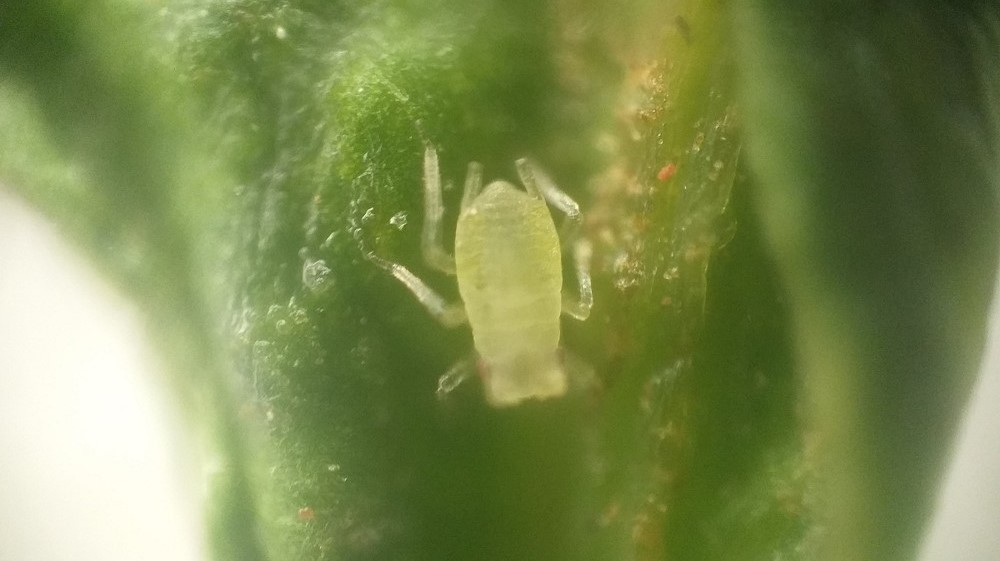Pulgon: (367, 128, 648, 440)
